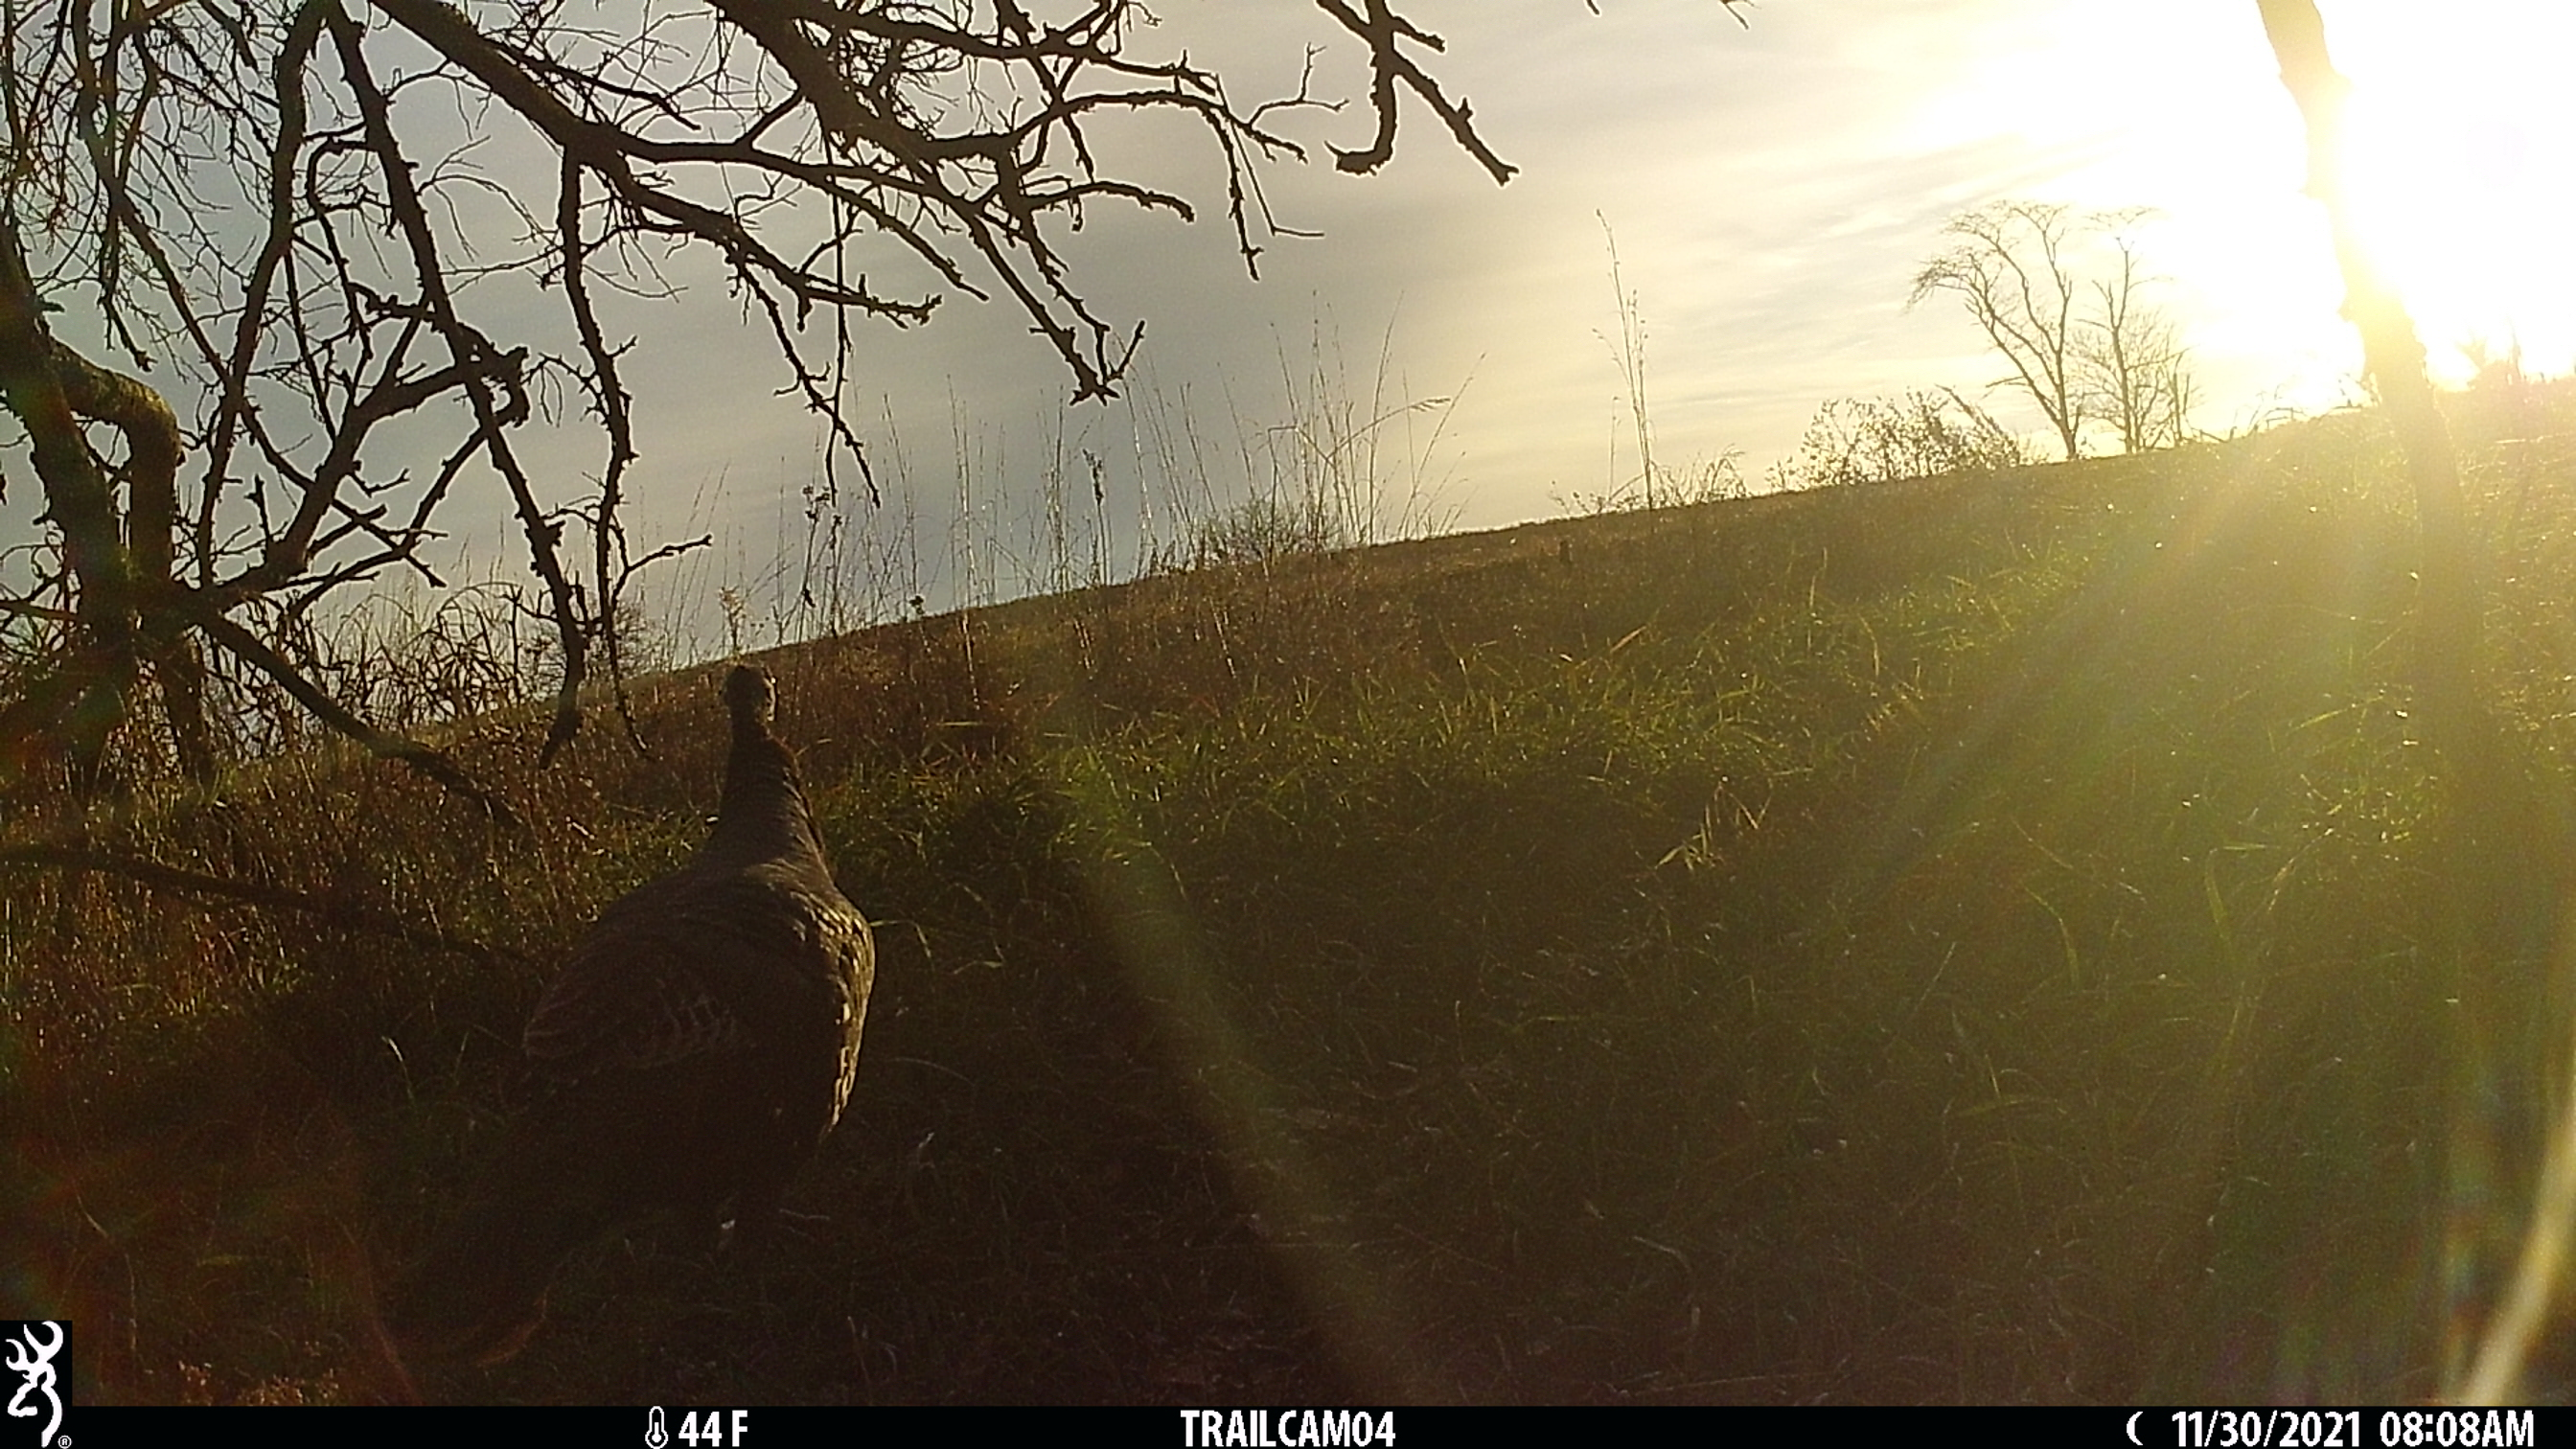Turkey: (373, 648, 872, 1378)
